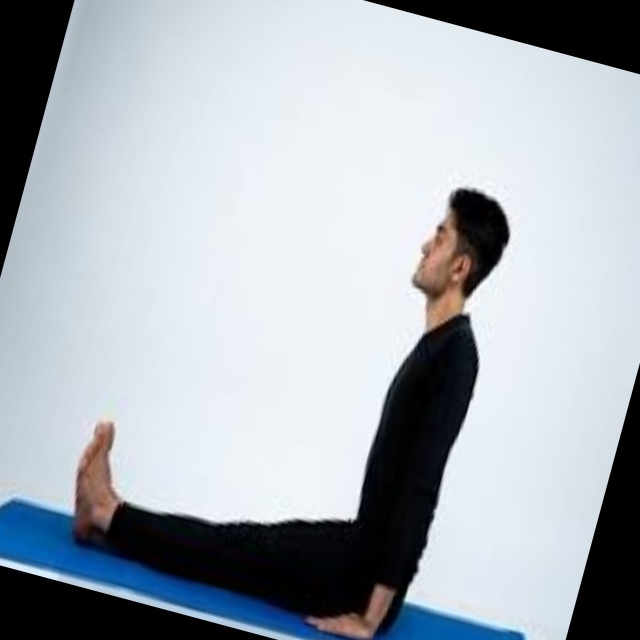Staff_Pose: (72, 188, 507, 637)
